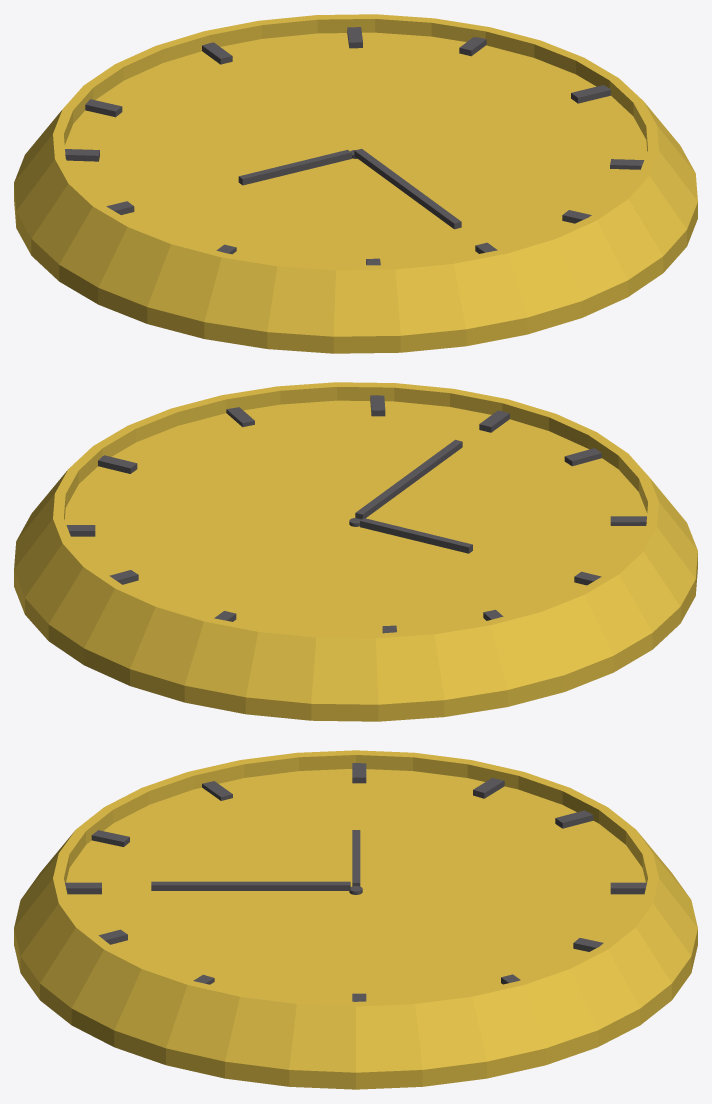
The model's file is clock.fbx.
3 renders of one model, top to bottom at view 1: azimuth 30°, elevation 25°; view 2: azimuth 150°, elevation 25°; view 3: azimuth 270°, elevation 25°, orthographic.
Parts seen in each view (by area): view 1: Cube.011; view 2: Cube.011; view 3: Cube.011.
Part boxes in pixels (x1,y1,x2,y2): Cube.011: [14, 14, 697, 353]; Cube.011: [14, 382, 697, 721]; Cube.011: [14, 750, 697, 1089].
Size of the model in its own units: 372 by 40.05 by 372.
